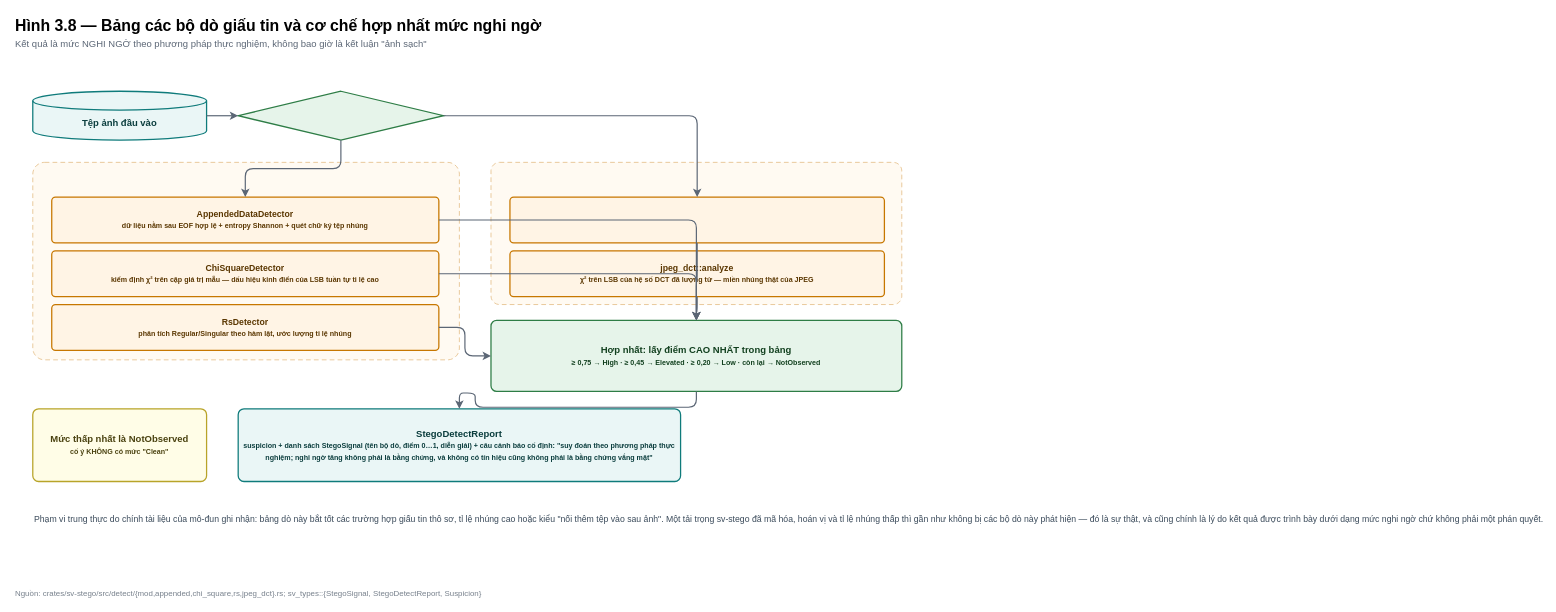
This 1556x612 diagram has some shape labels left out. The box of each missing label's shape, as (x1, y1, x2, y2) in pixels:
Bảng dò cho JPEG: (490, 162, 902, 305)
Bảng dò cho ảnh không mất mát (PNG / BMP): (32, 162, 459, 360)
jpeg_appended_signal dữ liệu nằm sau dấu EOI: (509, 196, 885, 243)
Phân nhánh theo vật chứa FF D8 FF ⇒ JPEG, ngược lại ⇒ PNG/BMP: (237, 90, 444, 140)
